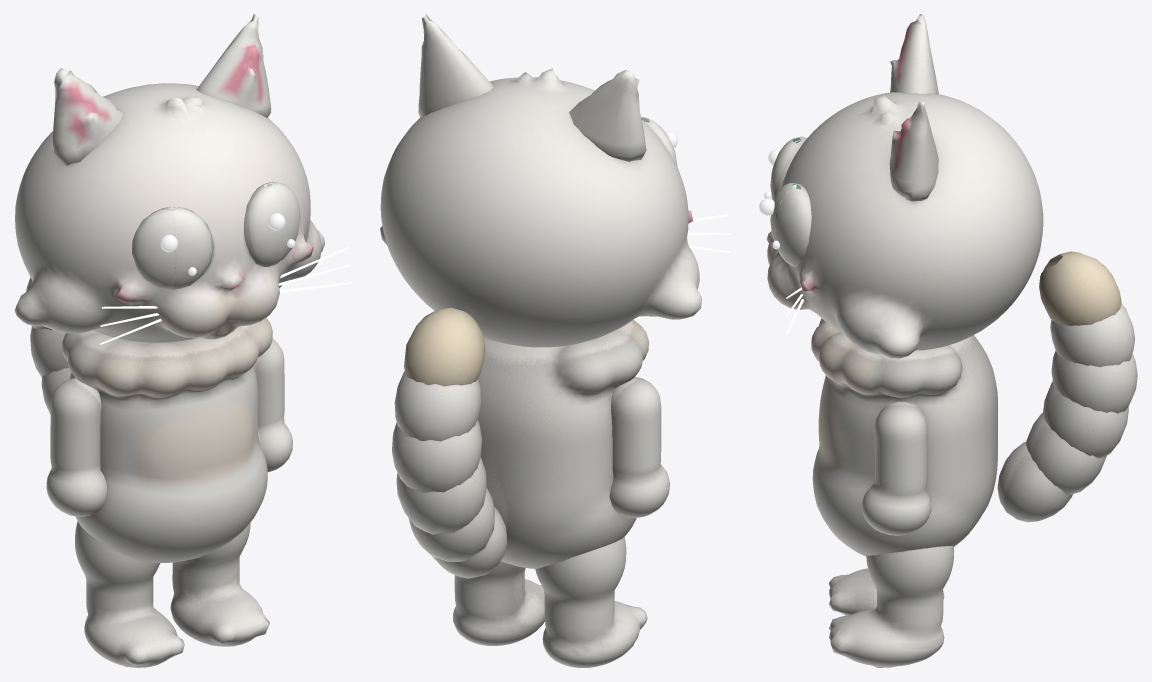
The model's file is tuspa.glb.
3 renders of one model, left to right at view 1: azimuth 30°, elevation 25°; view 2: azimuth 150°, elevation 25°; view 3: azimuth 270°, elevation 25°, orthographic. The views are drawn at different scales.
Visible parts, largest first — view 1: Kafa_mesh, Govde_mesh, Bacak_R_mesh, Bacak_L_mesh, Kol_R_mesh, Kapak_R_mesh, Kulak_R_mesh, Kulak_L_mesh, Kapak_L_mesh, Kol_L_mesh, Kuyruk3_mesh, Biyik_mesh (+1 smaller); view 2: Kafa_mesh, Govde_mesh, Bacak_R_mesh, Kol_R_mesh, Bacak_L_mesh, Kuyruk6_mesh, Kulak_R_mesh, Kuyruk5_mesh, Kuyruk4_mesh, Kulak_L_mesh, Kuyruk3_mesh, Kuyruk2_mesh (+1 smaller); view 3: Kafa_mesh, Govde_mesh, Bacak_L_mesh, Kol_L_mesh, Kuyruk6_mesh, Kuyruk4_mesh, Kulak_L_mesh, Kuyruk5_mesh, Kuyruk3_mesh, Kuyruk1_mesh, Kuyruk2_mesh, Kapak_L_mesh (+3 smaller).
Part boxes in pixels (bbox=[...]): Kafa_mesh: bbox=[14, 83, 324, 343]; Govde_mesh: bbox=[62, 317, 272, 562]; Bacak_R_mesh: bbox=[75, 521, 184, 667]; Bacak_L_mesh: bbox=[170, 522, 269, 646]; Kol_R_mesh: bbox=[46, 378, 106, 516]; Kapak_R_mesh: bbox=[132, 207, 213, 289]; Kulak_R_mesh: bbox=[52, 68, 123, 165]; Kulak_L_mesh: bbox=[196, 14, 271, 117]; Kapak_L_mesh: bbox=[244, 181, 300, 266]; Kol_L_mesh: bbox=[254, 339, 292, 471]; Kuyruk3_mesh: bbox=[30, 327, 68, 377]; Biyik_mesh: bbox=[100, 247, 351, 344]; Kafa_mesh: bbox=[380, 68, 701, 347]; Govde_mesh: bbox=[477, 320, 648, 568]; Bacak_R_mesh: bbox=[535, 537, 647, 667]; Kol_R_mesh: bbox=[609, 377, 670, 517]; Bacak_L_mesh: bbox=[453, 561, 544, 645]; Kuyruk6_mesh: bbox=[404, 307, 485, 386]; Kulak_R_mesh: bbox=[569, 70, 646, 161]; Kuyruk5_mesh: bbox=[394, 371, 481, 441]; Kuyruk4_mesh: bbox=[392, 420, 482, 492]; Kulak_L_mesh: bbox=[418, 14, 493, 117]; Kuyruk3_mesh: bbox=[396, 457, 486, 534]; Kuyruk2_mesh: bbox=[408, 488, 494, 561]; Kafa_mesh: bbox=[766, 92, 1043, 358]; Govde_mesh: bbox=[811, 318, 997, 556]; Bacak_L_mesh: bbox=[829, 546, 954, 667]; Kol_L_mesh: bbox=[862, 401, 931, 535]; Kuyruk6_mesh: bbox=[1039, 251, 1121, 325]; Kuyruk4_mesh: bbox=[1051, 351, 1137, 413]; Kulak_L_mesh: bbox=[889, 101, 938, 201]; Kuyruk5_mesh: bbox=[1050, 303, 1134, 366]; Kuyruk3_mesh: bbox=[1042, 381, 1128, 457]; Kuyruk1_mesh: bbox=[997, 441, 1072, 522]; Kuyruk2_mesh: bbox=[1025, 413, 1106, 494]; Kapak_L_mesh: bbox=[770, 183, 811, 266].
Bounding box in the file's own units: 0.7791 × 1.46 × 0.8496.
Materials: 9 (1 with a texture image).
